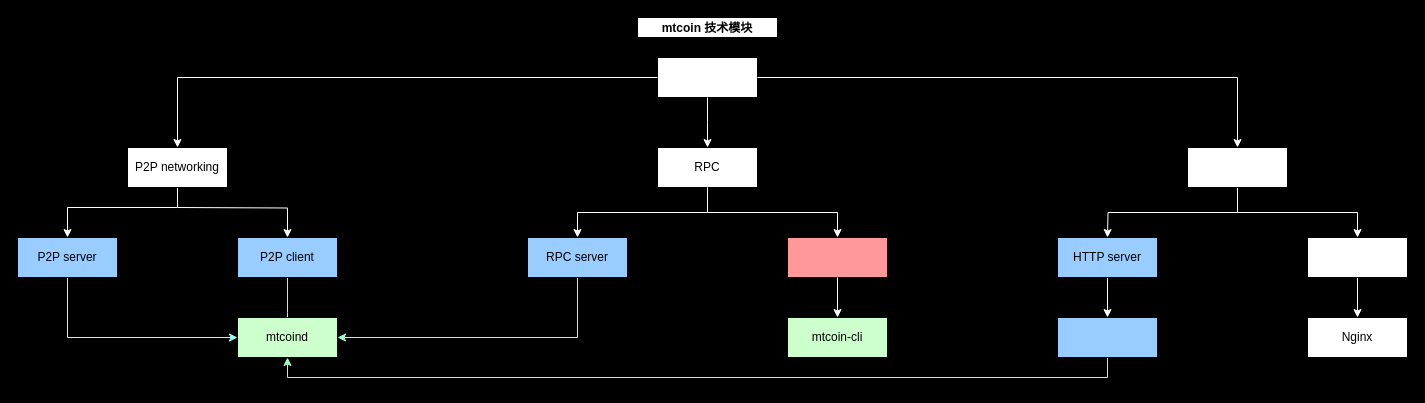
Image size: 1425x403. Some labels were removed from this diagram. The box of each missing label's shape, as (x1, y1, x2, y2) in pixels:
gin: (1056, 316, 1158, 358)
HTTP: (1186, 146, 1288, 188)
HTTP client: (1306, 236, 1408, 278)
node: (656, 56, 758, 98)
RPC client: (786, 236, 888, 278)
